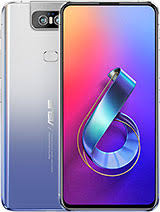asus: (56, 1, 160, 212), (1, 1, 65, 210)
